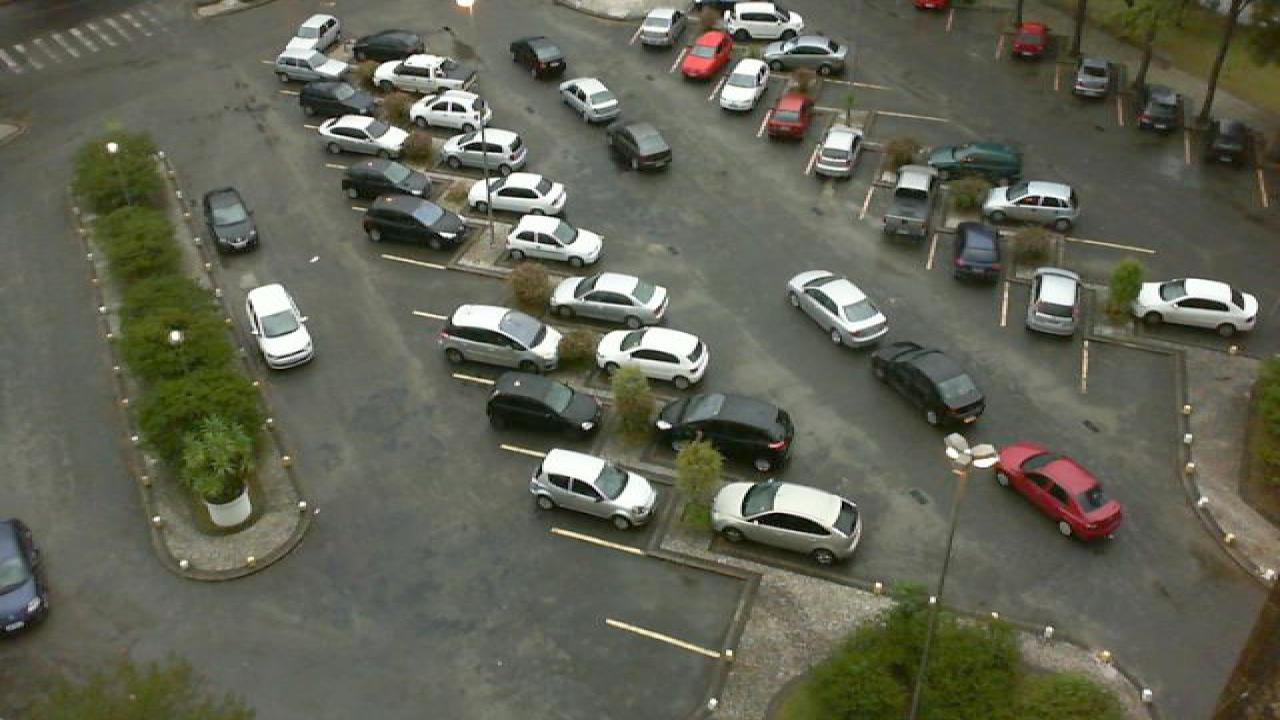Car: (710, 477, 864, 566), (992, 441, 1126, 541), (870, 341, 988, 433), (654, 392, 794, 469), (528, 448, 658, 530), (434, 302, 566, 373), (484, 371, 606, 441), (784, 268, 890, 347), (592, 326, 712, 390), (1132, 277, 1260, 336), (550, 271, 670, 329), (244, 282, 318, 369), (0, 516, 50, 638), (360, 193, 470, 246), (504, 212, 606, 266), (466, 170, 570, 219), (882, 165, 942, 238), (982, 180, 1078, 225), (314, 114, 412, 158), (434, 128, 528, 172), (920, 142, 1022, 181), (340, 158, 430, 202), (1024, 267, 1082, 335), (202, 186, 260, 253), (368, 54, 464, 94), (762, 34, 848, 77), (406, 88, 490, 132), (718, 0, 806, 42), (952, 220, 1006, 284), (608, 120, 674, 170), (298, 80, 376, 122), (272, 49, 350, 86), (558, 77, 622, 122), (718, 57, 770, 112), (678, 29, 732, 81), (810, 126, 862, 180), (508, 34, 568, 78), (764, 87, 812, 140), (352, 29, 424, 63), (1210, 122, 1258, 170), (636, 6, 686, 50), (292, 12, 340, 57), (1136, 84, 1180, 130), (1006, 19, 1050, 60), (1070, 56, 1110, 98)
